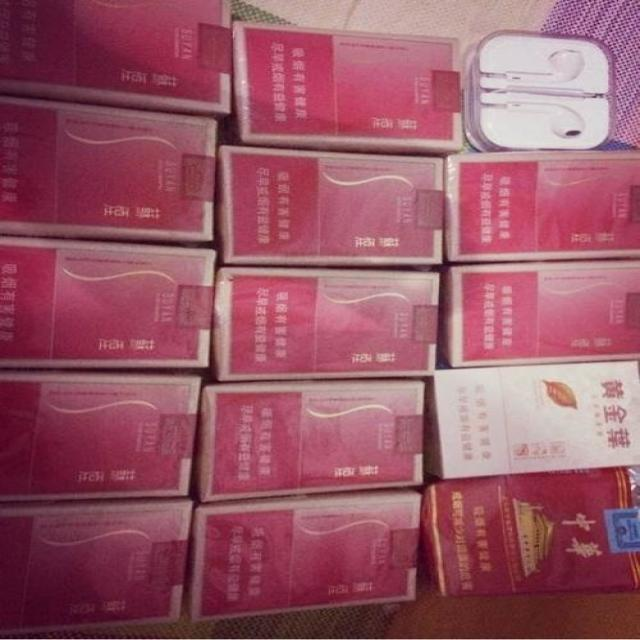box: (179, 488, 422, 626), (0, 94, 219, 245), (218, 21, 461, 156), (417, 466, 640, 597), (189, 380, 429, 498), (0, 238, 216, 369), (218, 146, 443, 270), (422, 362, 640, 488), (0, 1, 233, 117), (0, 370, 201, 504), (0, 500, 191, 638), (211, 269, 442, 381), (442, 151, 640, 267), (436, 258, 640, 369)
